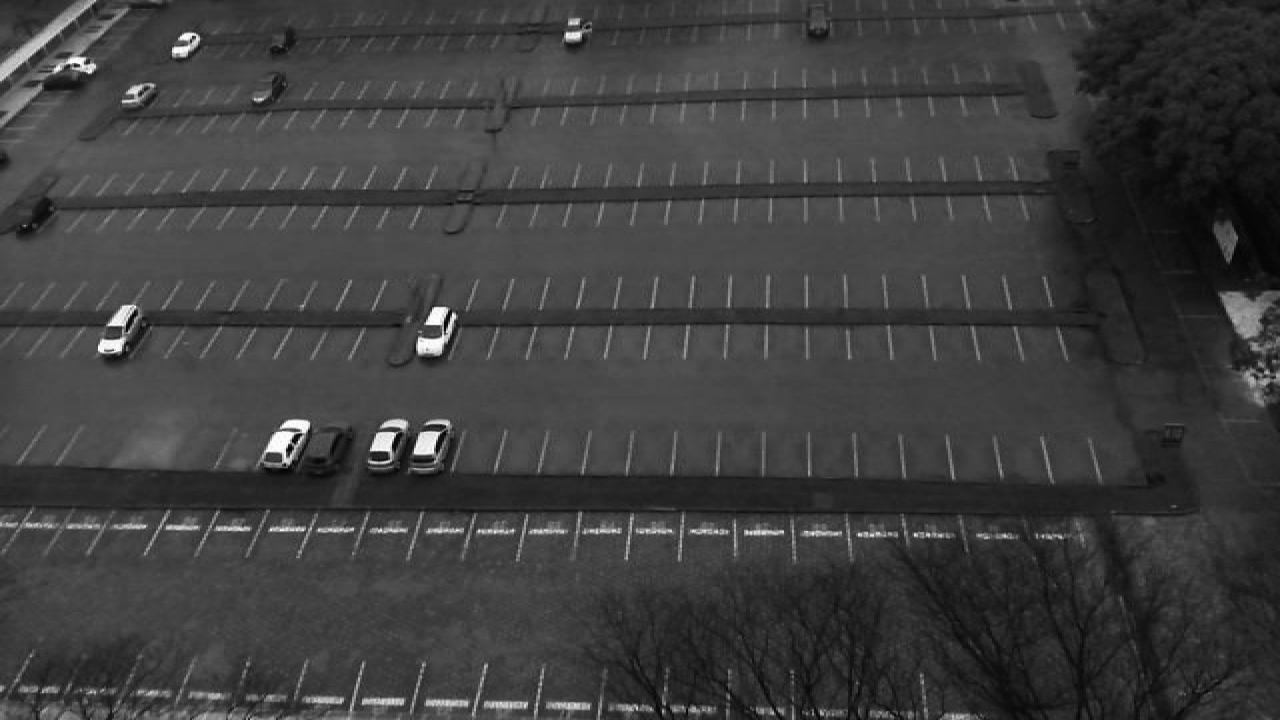Car: (298, 420, 352, 477), (256, 418, 312, 472), (96, 302, 148, 356), (406, 417, 454, 475), (412, 304, 460, 360), (362, 418, 410, 472), (14, 195, 56, 235), (116, 81, 158, 113), (250, 71, 288, 106), (804, 3, 834, 40), (168, 30, 202, 62), (560, 16, 592, 50), (54, 54, 96, 79), (268, 26, 296, 56)
